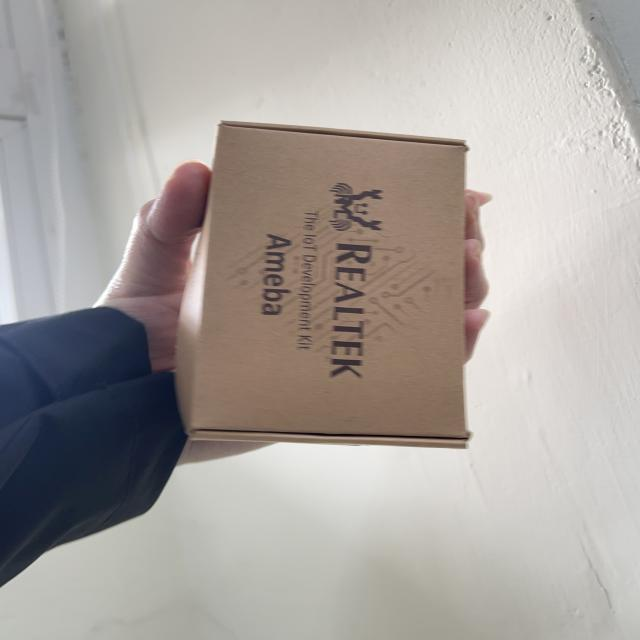box: (174, 105, 493, 468)
